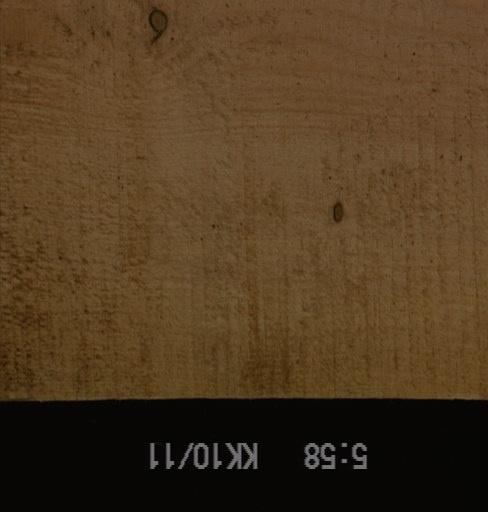dry_knot: (332, 200, 345, 224)
